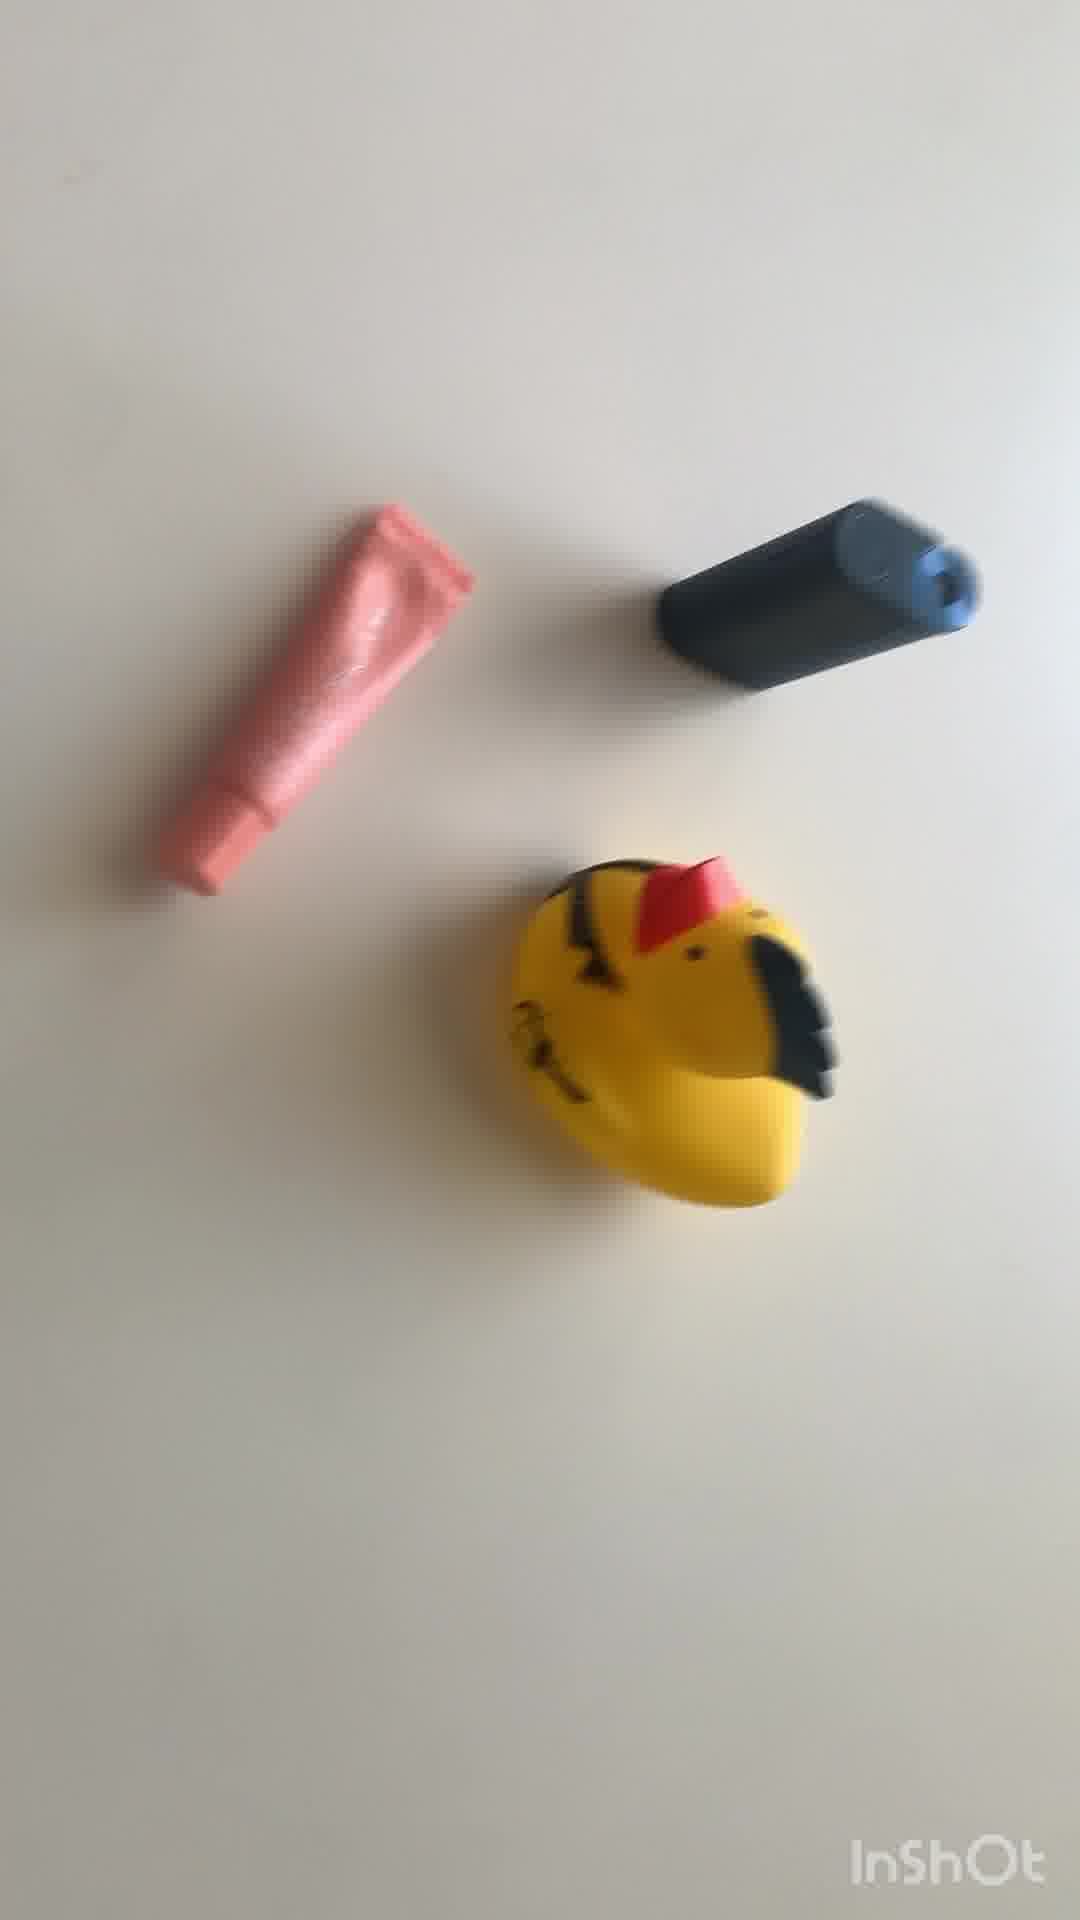duck: (510, 844, 815, 1218)
glo: (649, 500, 982, 708)
lip balm: (149, 513, 472, 909)
